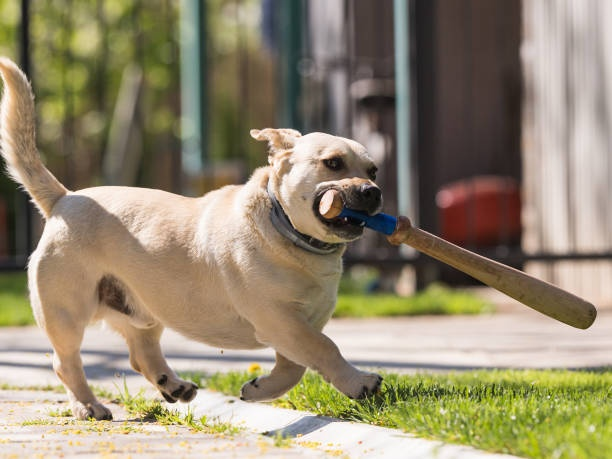bita: (321, 193, 597, 326)
